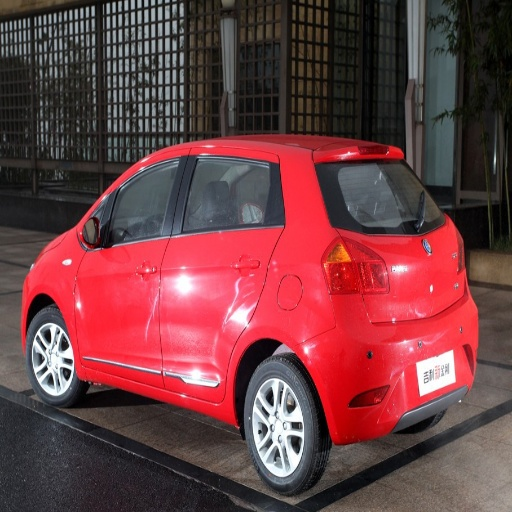back_bumper: (316, 340, 417, 438)
back_glass: (320, 162, 433, 230)
back_left_door: (161, 152, 283, 400)
trunk: (351, 222, 453, 359)
